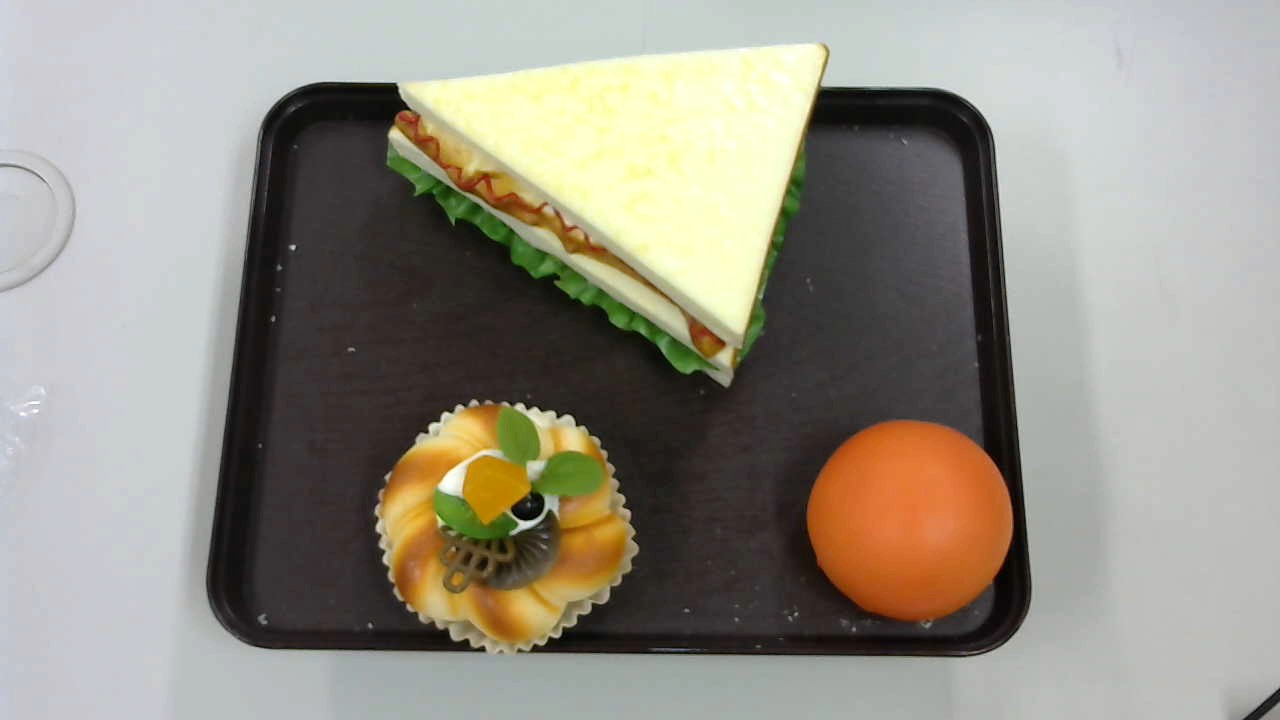bun: (806, 418, 1015, 624)
fruit tart: (373, 397, 639, 654)
sandwich: (387, 44, 832, 388)
